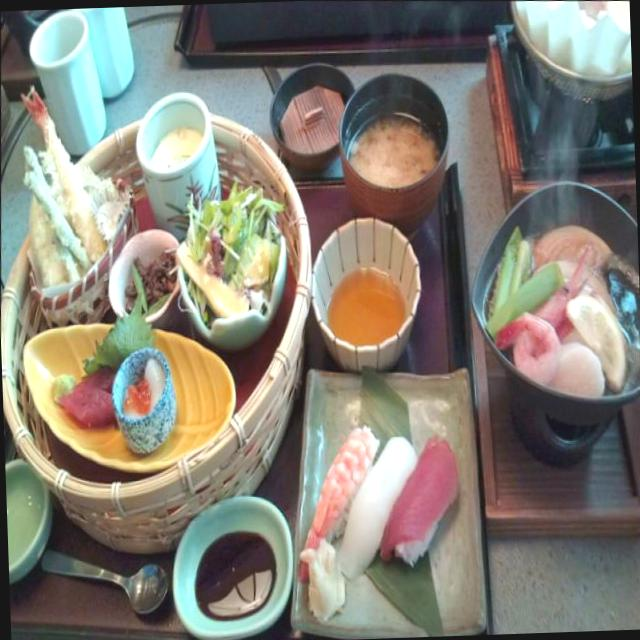Sushi: (284, 401, 476, 619)
